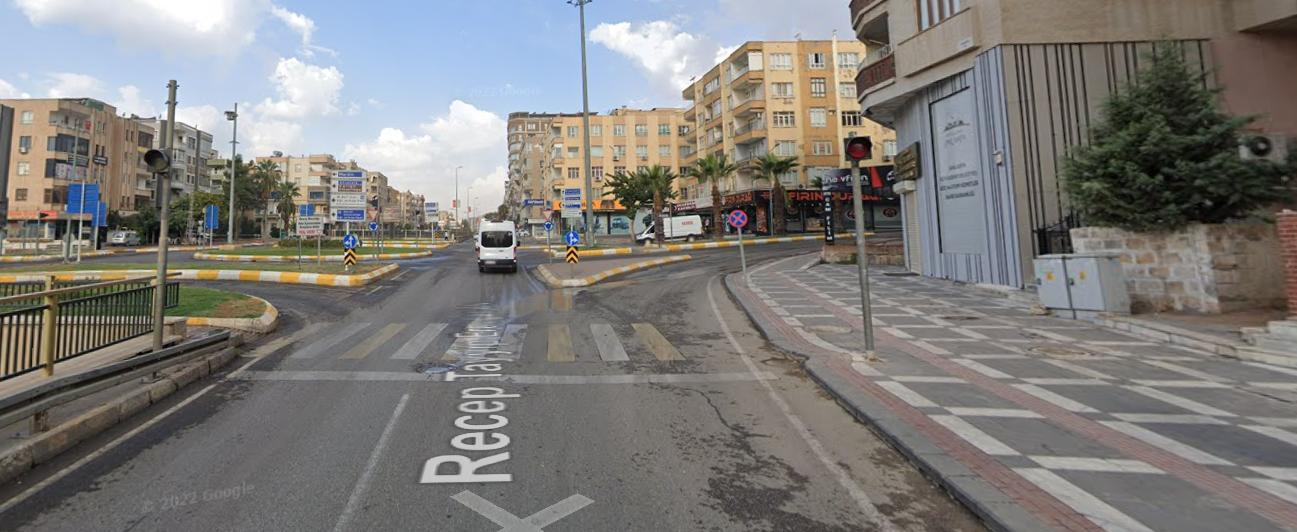crossroads: (368, 222, 379, 232), (544, 221, 553, 231)
